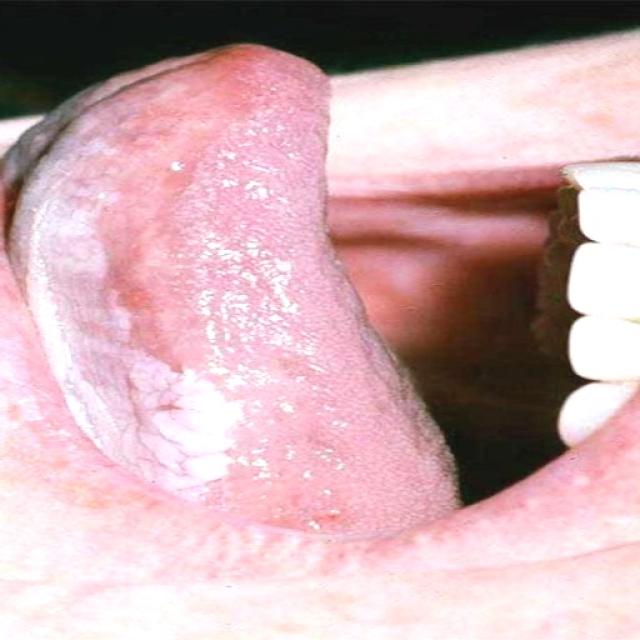cancer-detection: (0, 87, 262, 517)
processing_area: (0, 44, 464, 531)
